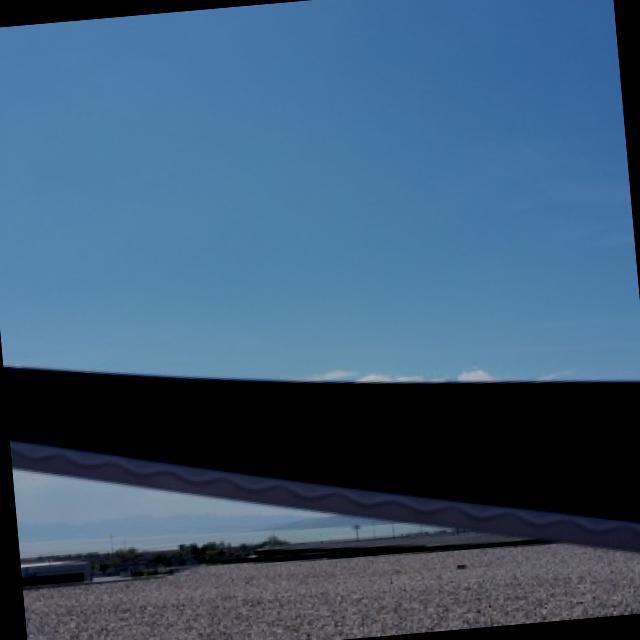healthy: (3, 364, 640, 640)
